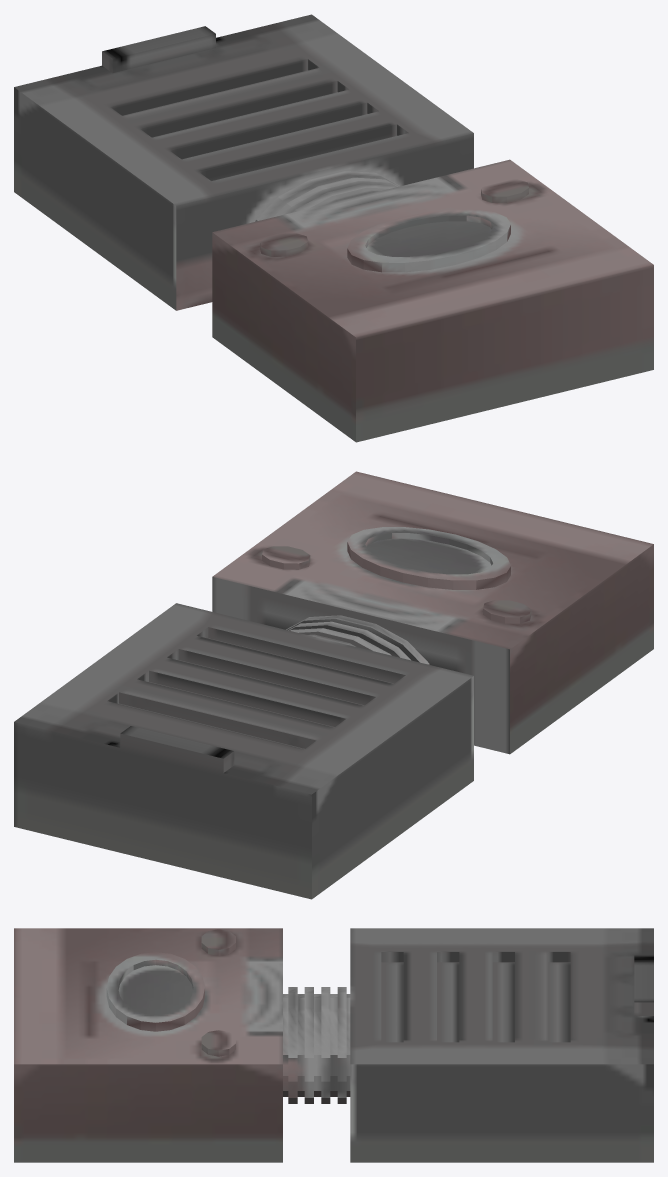
The model's file is Building_BioferriteHarvester.glb.
3 views of the same model, one above another, from view 1: azimuth 30°, elevation 25°; view 2: azimuth 150°, elevation 25°; view 3: azimuth 270°, elevation 25° (orthographic). The views are drawn at different scales.
Visible parts, largest first — view 1: BioferriteHarvester; view 2: BioferriteHarvester; view 3: BioferriteHarvester.
Boxes of the visible parts, left/top/right/bottom form: BioferriteHarvester: left=14, top=14, right=653, bottom=442; BioferriteHarvester: left=14, top=471, right=653, bottom=899; BioferriteHarvester: left=14, top=928, right=653, bottom=1162.
Size of the model in its own units: 0.98 by 0.375 by 1.95.
Materials: 1 (1 with a texture image).
